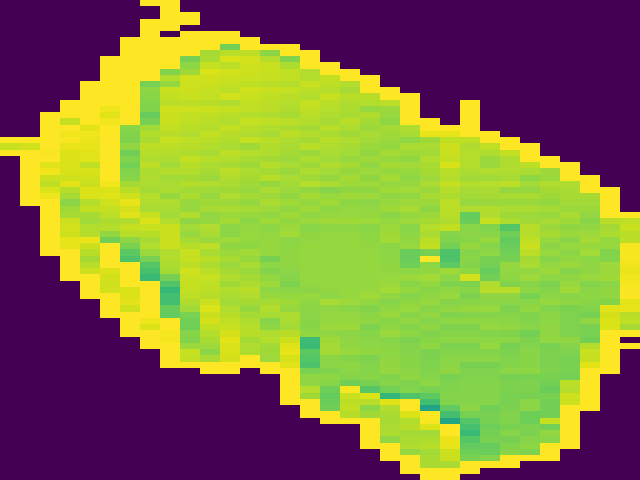car_0027: (2, 1, 640, 480)
